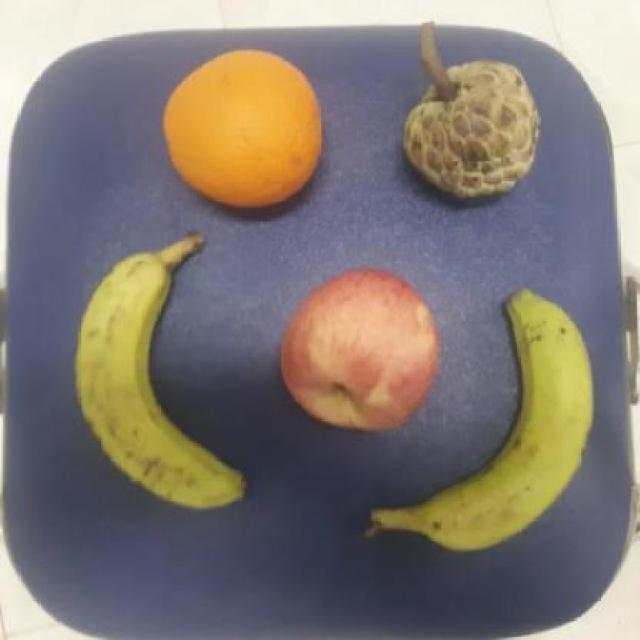apple: (274, 262, 444, 442)
banana: (364, 286, 598, 556), (70, 233, 248, 515)
oren: (160, 47, 325, 211)
sugar apple: (388, 56, 544, 210)
